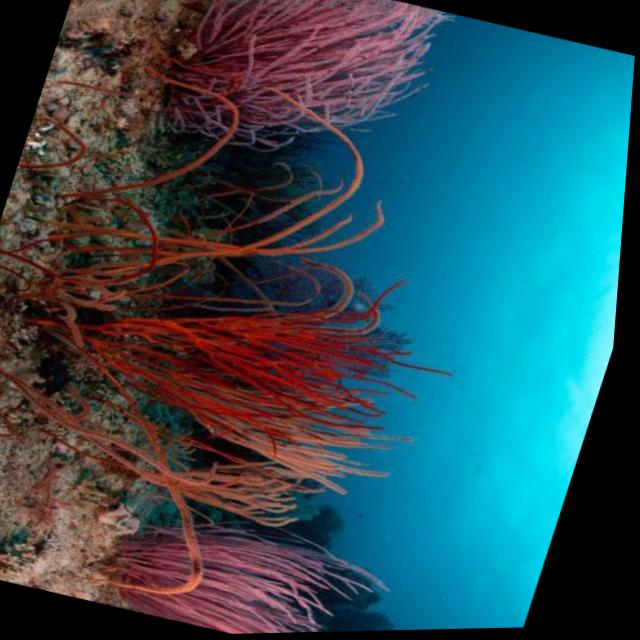Healthy Coral: (19, 0, 476, 639)
